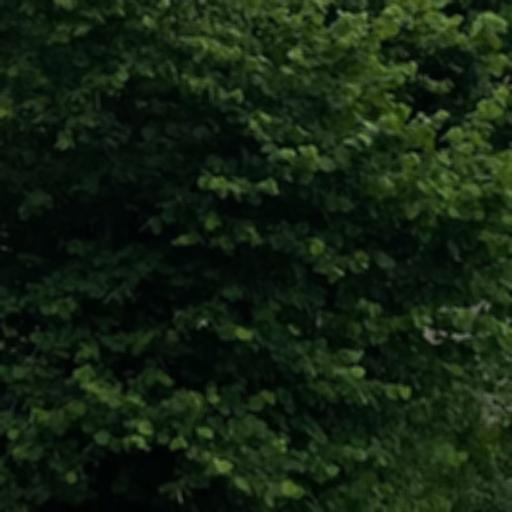tree: (1, 1, 511, 511)
